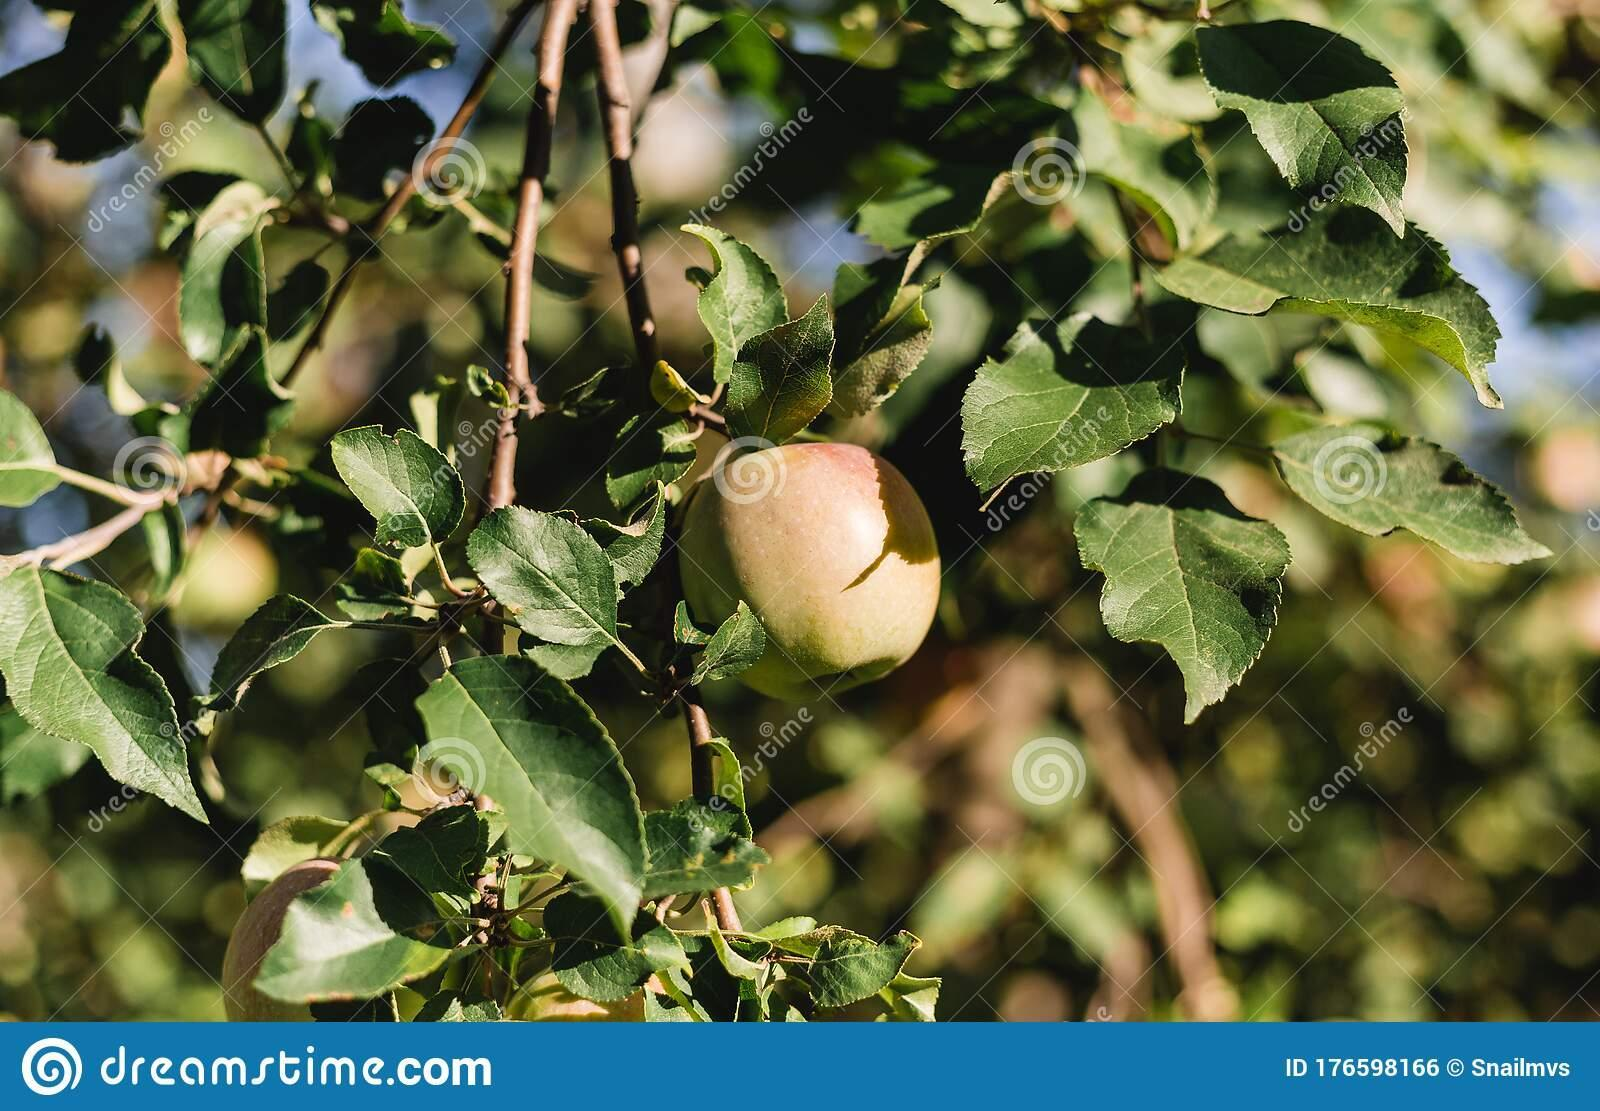apple: (672, 436, 942, 703)
